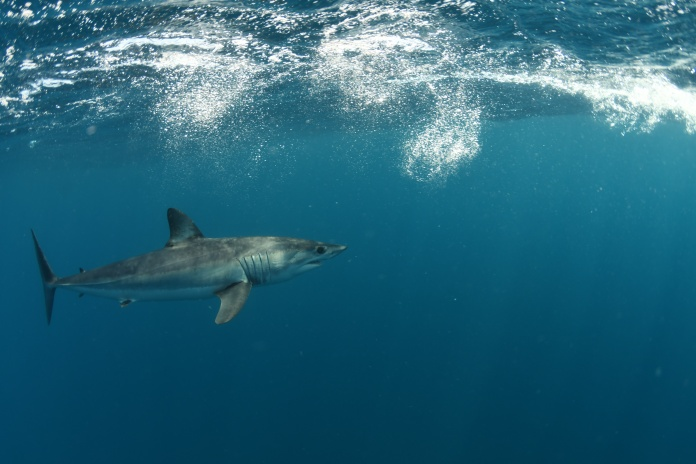Mako: (22, 204, 354, 332)
